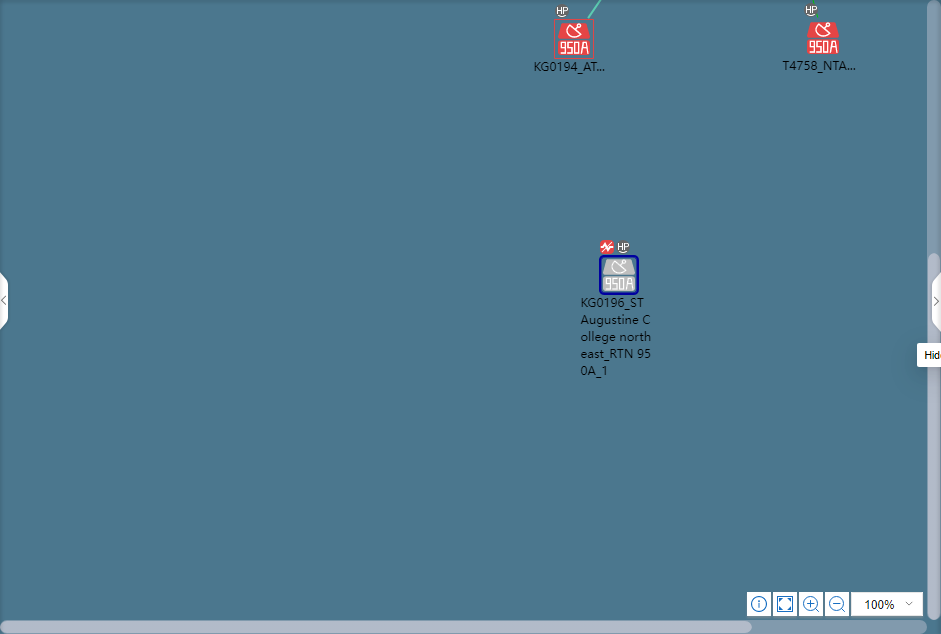RTN_Gray: (600, 257, 636, 293)
RTN_Red: (555, 22, 591, 56), (806, 22, 838, 53)
